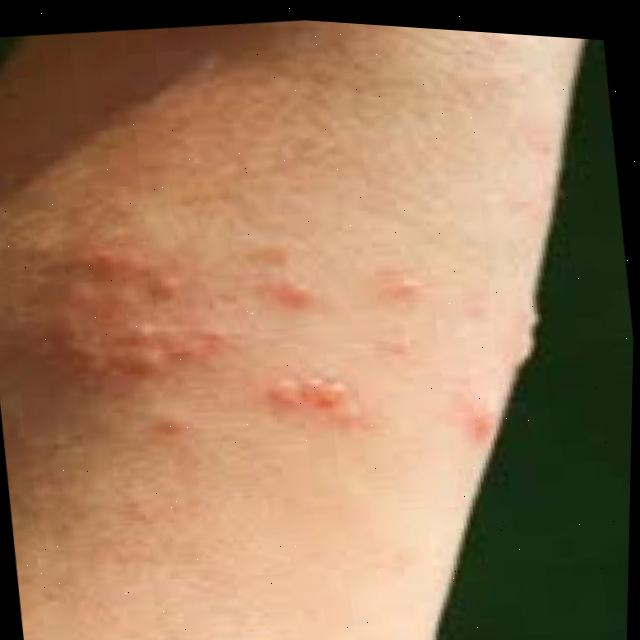Eczema: (48, 189, 489, 531)
